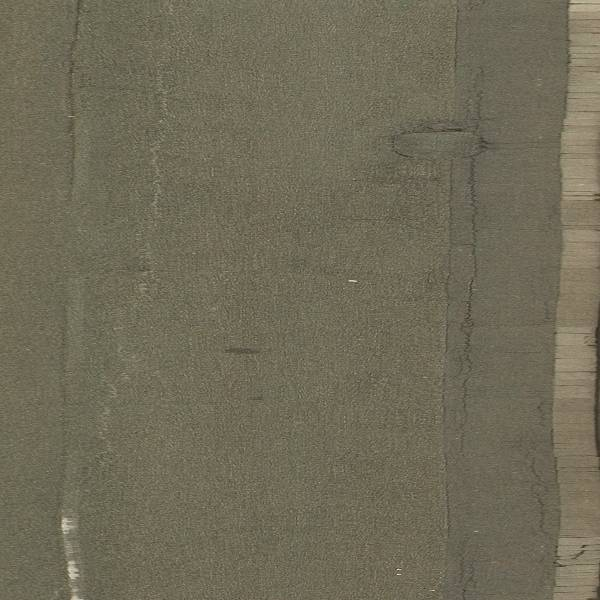road_damage: (455, 80, 494, 422), (382, 111, 497, 167), (521, 452, 557, 550)
